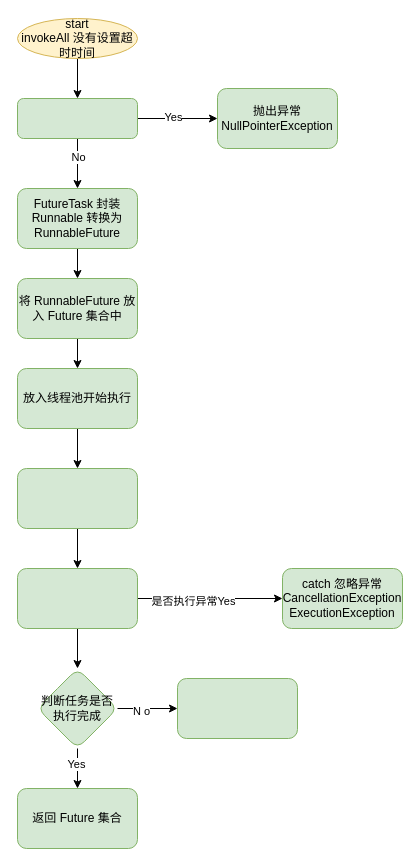
The diagram is 420 pixels wide and 866 high, and some of its shapes have lost their labels. Here are the shapes that lost their labels. From the top down, the box of each, then its label:
(16, 98, 138, 138): 判断任务集合是否为 null
(16, 468, 138, 528): 遍历 Future 集合获取执行任务返回的结果
(16, 568, 138, 628): f.get();阻塞获取任务执行结果
(176, 678, 298, 738): Future 调用取消任务方法
